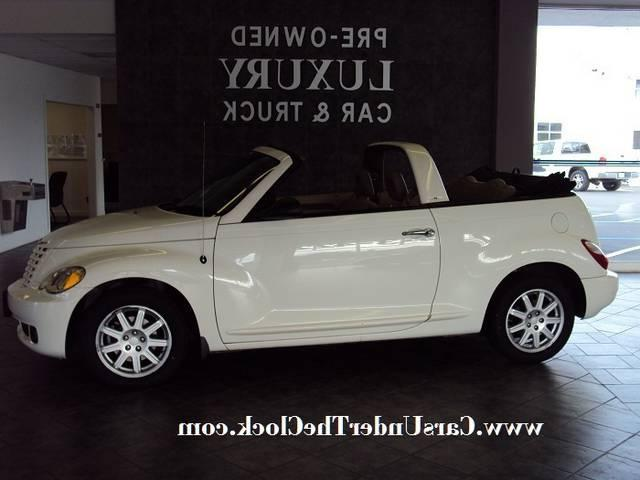Car: (2, 119, 626, 410), (532, 126, 640, 203)
